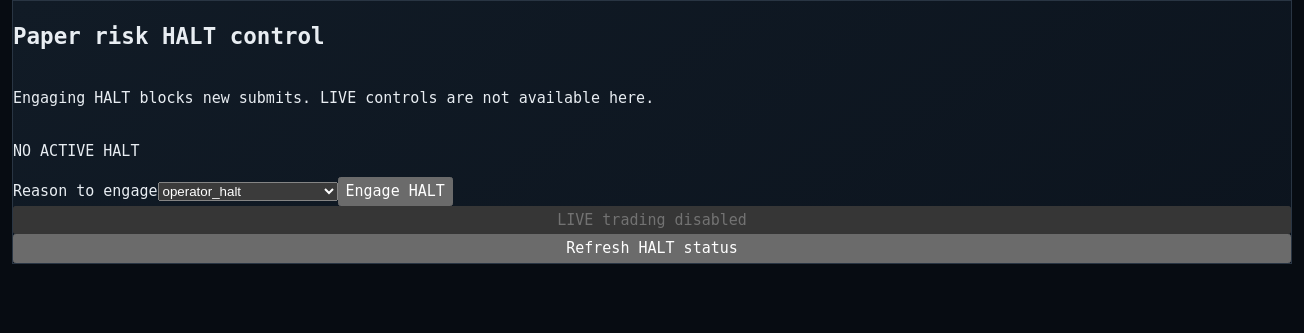
Scenario: PAPER-HALT-OPERATOR-UI-001 independent acceptance › reports a persistence failure and re-fetches instead of drifting committed state
Expected: the text "NO ACTIVE HALT" is shown, left=13, top=142, right=139, bottom=160
Click the button "Engage HALT" at (395, 191), box left=338, top=177, right=453, bottom=206
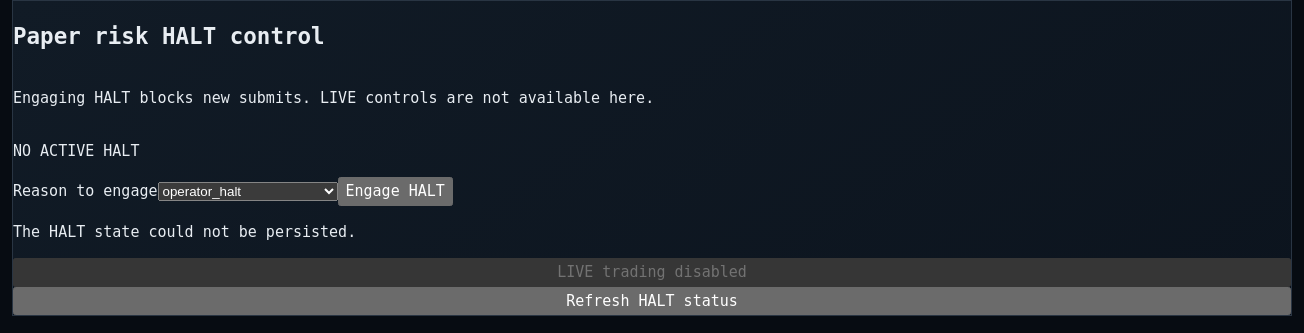
Expected: the text "NO ACTIVE HALT" is shown, left=13, top=142, right=139, bottom=160
Expected: the message "The HALT state could not be persisted." is shown, left=13, top=223, right=356, bottom=241
